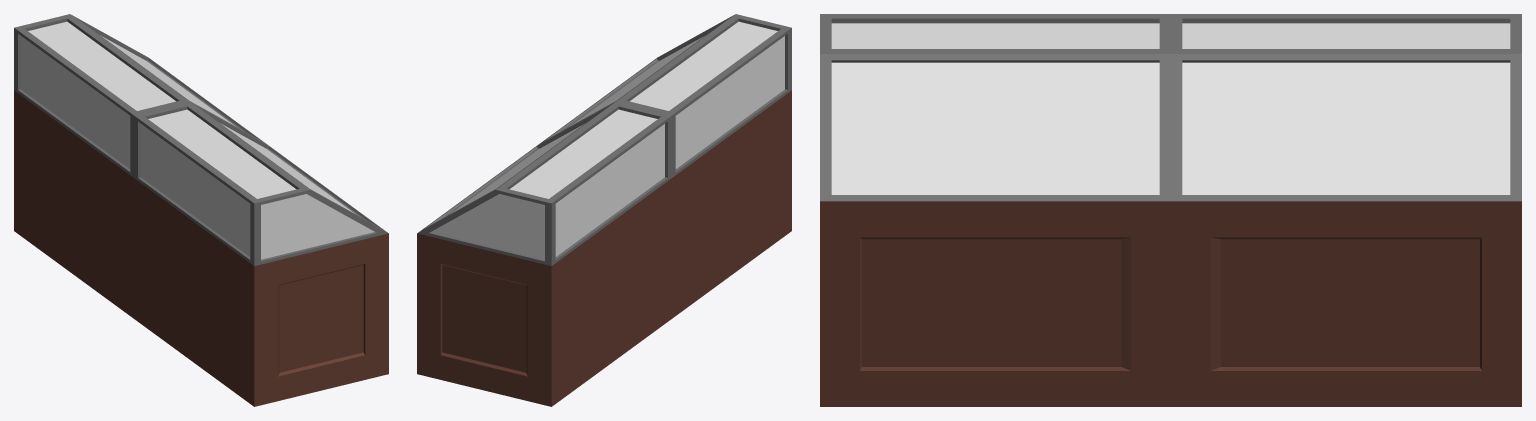
The model's file is GunStoreDisplay .fbx.
3 renders of one model, left to right at view 1: azimuth 30°, elevation 25°; view 2: azimuth 150°, elevation 25°; view 3: azimuth 270°, elevation 25°, orthographic. The views are drawn at different scales.
Parts seen in each view (by area): view 1: Base, Glass, Frame; view 2: Base, Glass, Frame; view 3: Base, Glass, Frame.
Boxes of the visible parts, x1,y1,x2,y2 form: Base: (14,90,388,406); Glass: (21,21,374,259); Frame: (14,14,388,265); Base: (417,90,791,406); Glass: (431,21,784,259); Frame: (417,14,791,265); Base: (820,201,1521,406); Glass: (831,23,1510,194); Frame: (820,14,1521,201).
Size of the model in its own units: 453 by 655 by 1401.
Materials: 1 (1 with a texture image).
